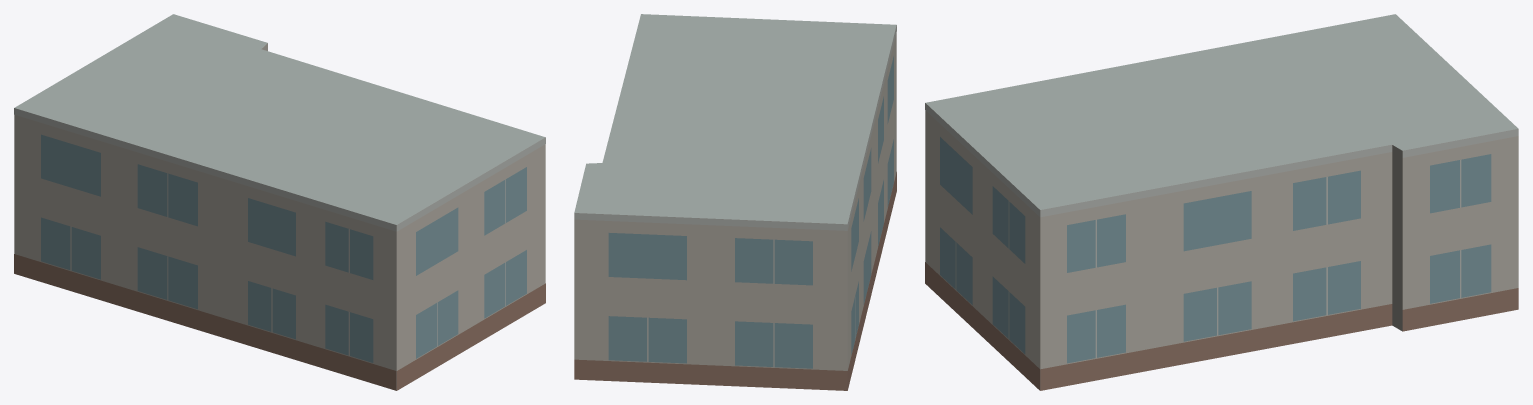
The model's file is survey-upis-32846654.glb.
3 views of the same model, side by side, from view 1: azimuth 30°, elevation 25°; view 2: azimuth 150°, elevation 25°; view 3: azimuth 270°, elevation 25° (orthographic). The views are drawn at different scales.
Visible parts, largest first — view 1: survey-upis-32846654.tmp; view 2: survey-upis-32846654.tmp; view 3: survey-upis-32846654.tmp.
Part boxes in pixels (left/top/right/bottom): survey-upis-32846654.tmp: left=14, top=14, right=545, bottom=390; survey-upis-32846654.tmp: left=574, top=14, right=896, bottom=390; survey-upis-32846654.tmp: left=925, top=14, right=1518, bottom=390.
Size of the model in its own units: 14.2 by 6.1 by 18.16.
